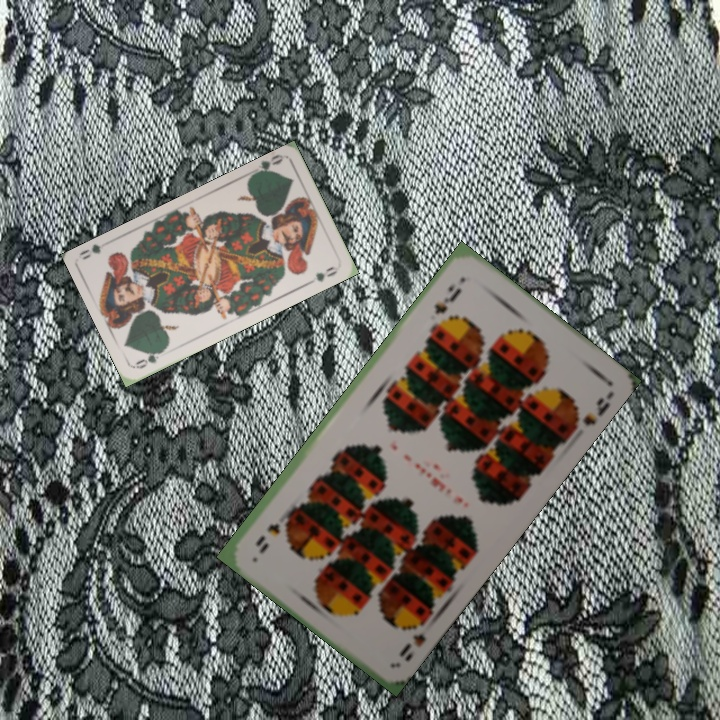GO: (248, 151, 285, 178), (131, 344, 168, 371)
S9: (395, 614, 431, 660), (430, 279, 465, 317)
